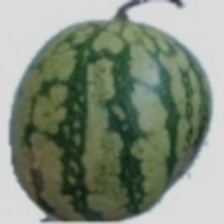watermelon: (34, 37, 206, 176)
